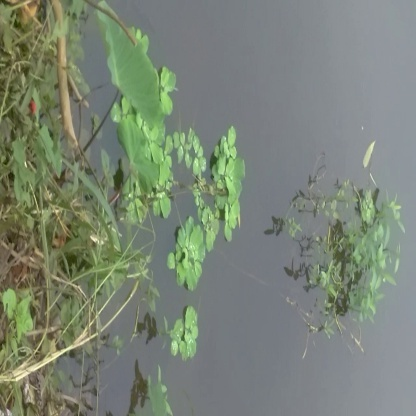leaf: (217, 130, 262, 236)
